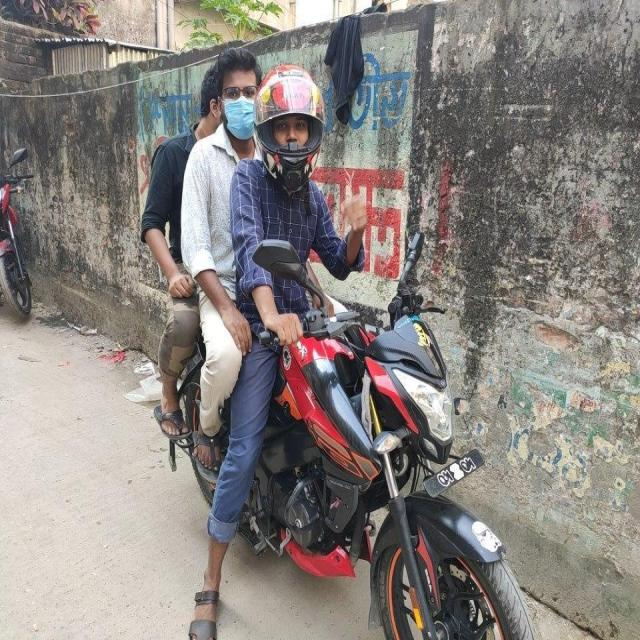triple_rider: (143, 43, 538, 640)
